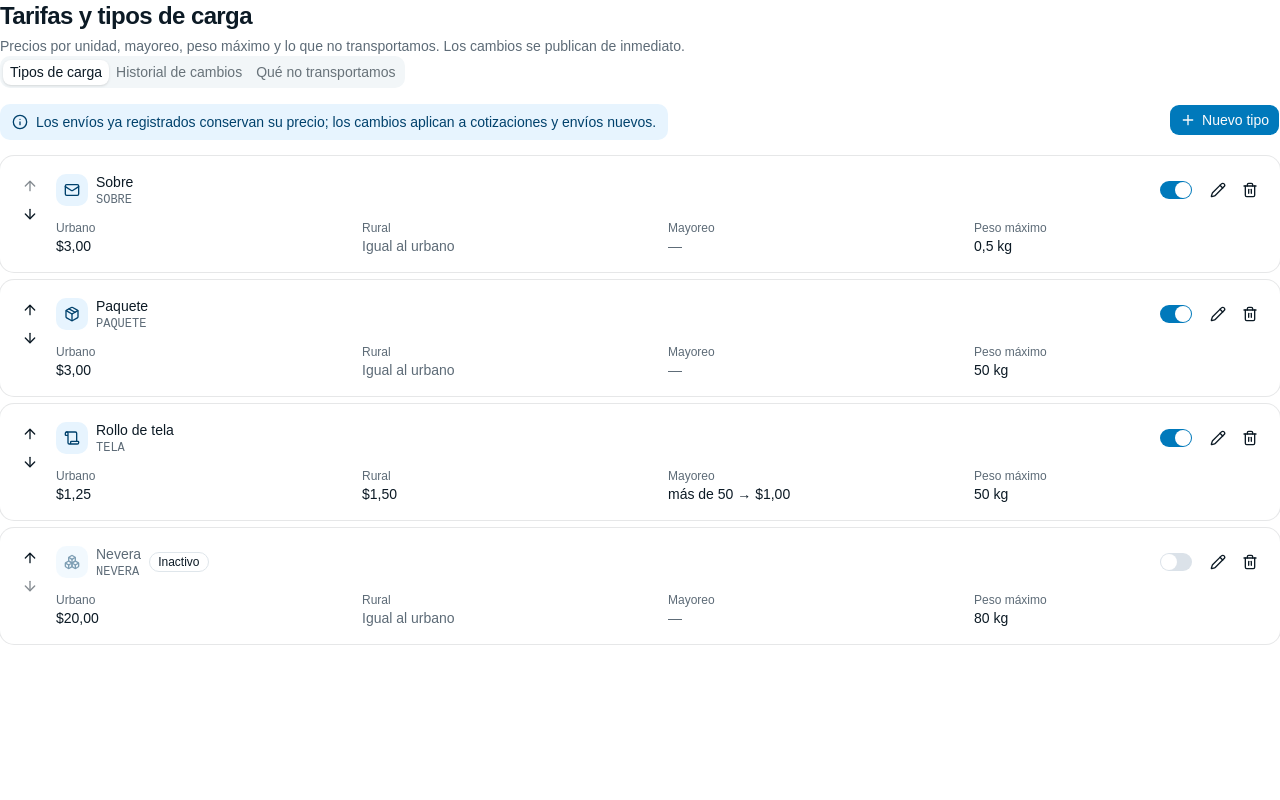
Test: CatalogoPage — tipos de carga › edita el precio enviando solo el campo que cambió; el código no se puede editar
Click the button named "Editar Sobre" at (1218, 190), box [1204,176,1232,204]
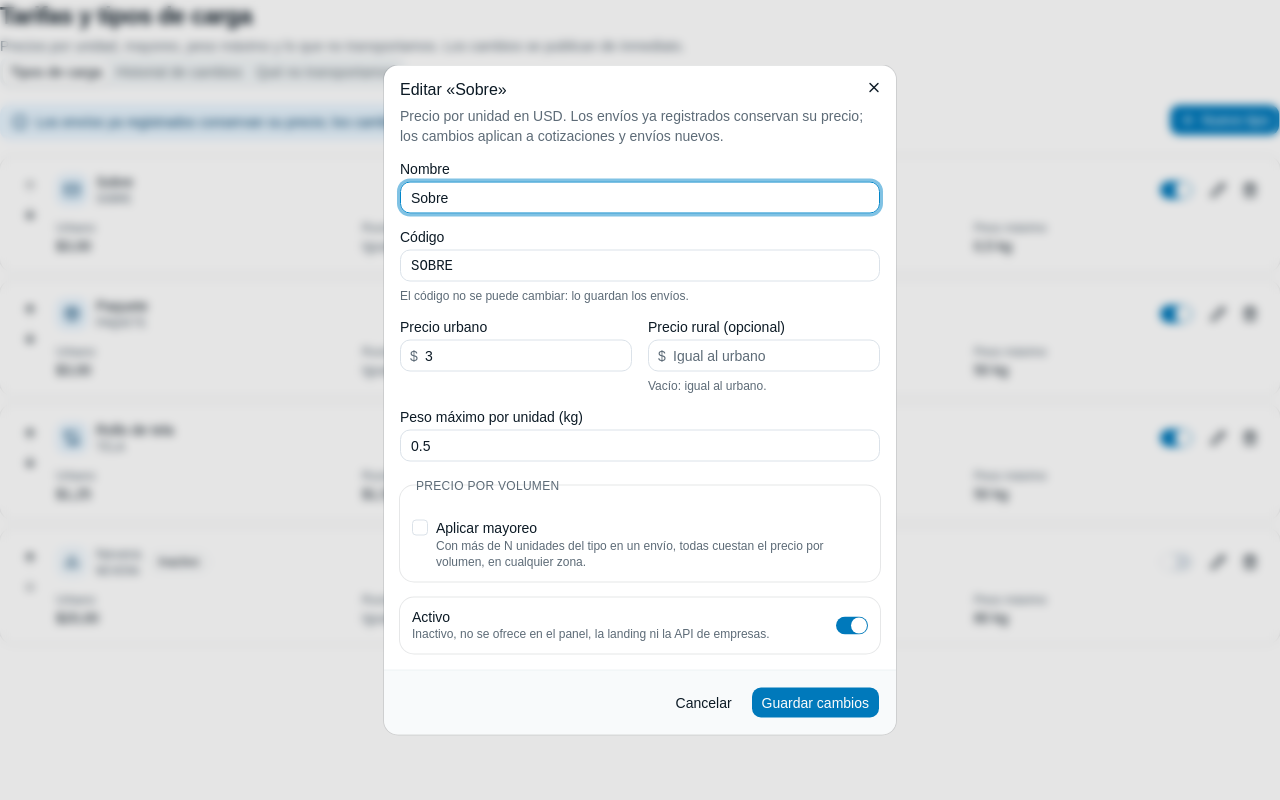
Expected: the field labelled "Precio urbano" holds "3"
Replace the text in the field labelled "Precio urbano" with "3,50" at (516, 356), box [400,340,632,372]
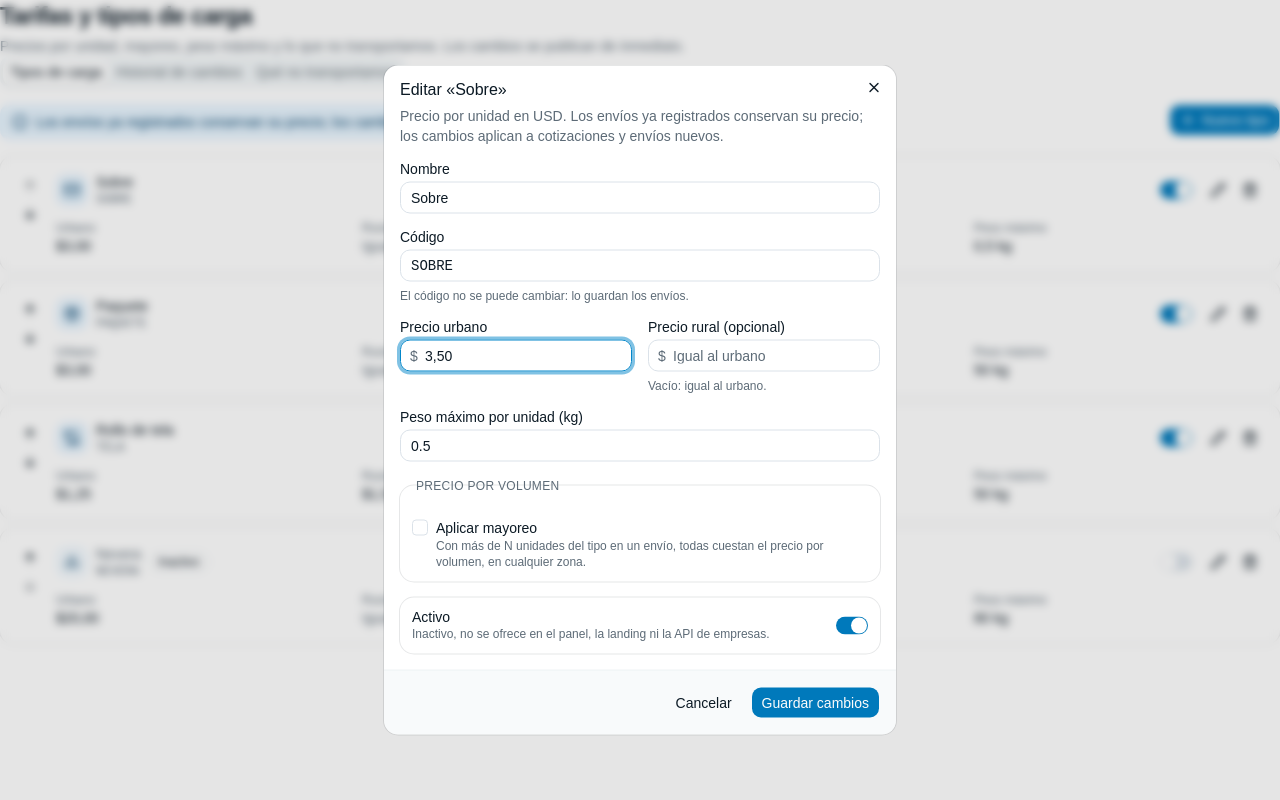
Click the button "Guardar cambios" at (815, 702), box [751,686,880,718]
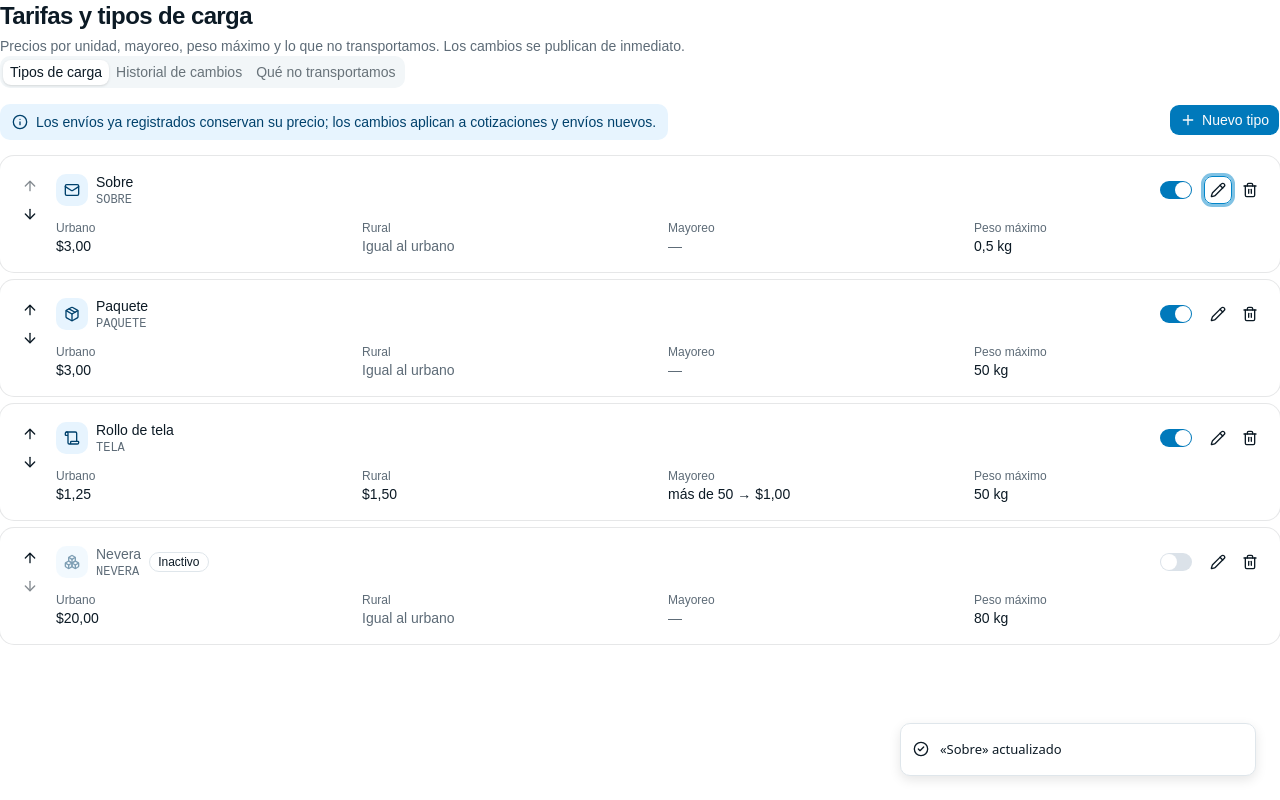
Expected: the text "«Sobre» actualizado" is shown, [940,740,1062,759]
